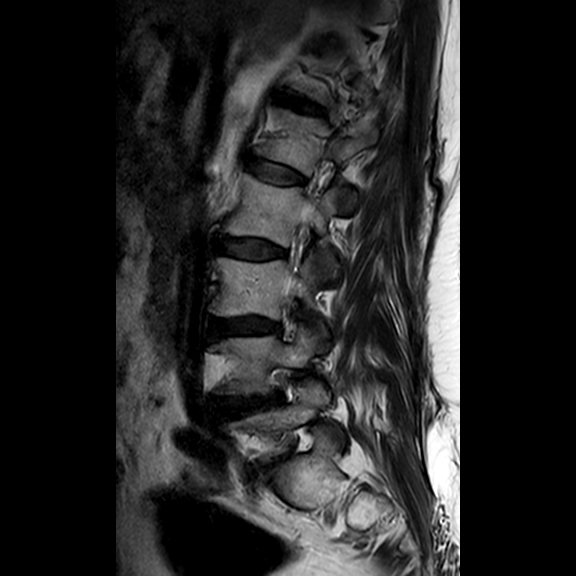RFS0: (293, 149, 342, 207)
RFS1: (257, 359, 304, 415)
